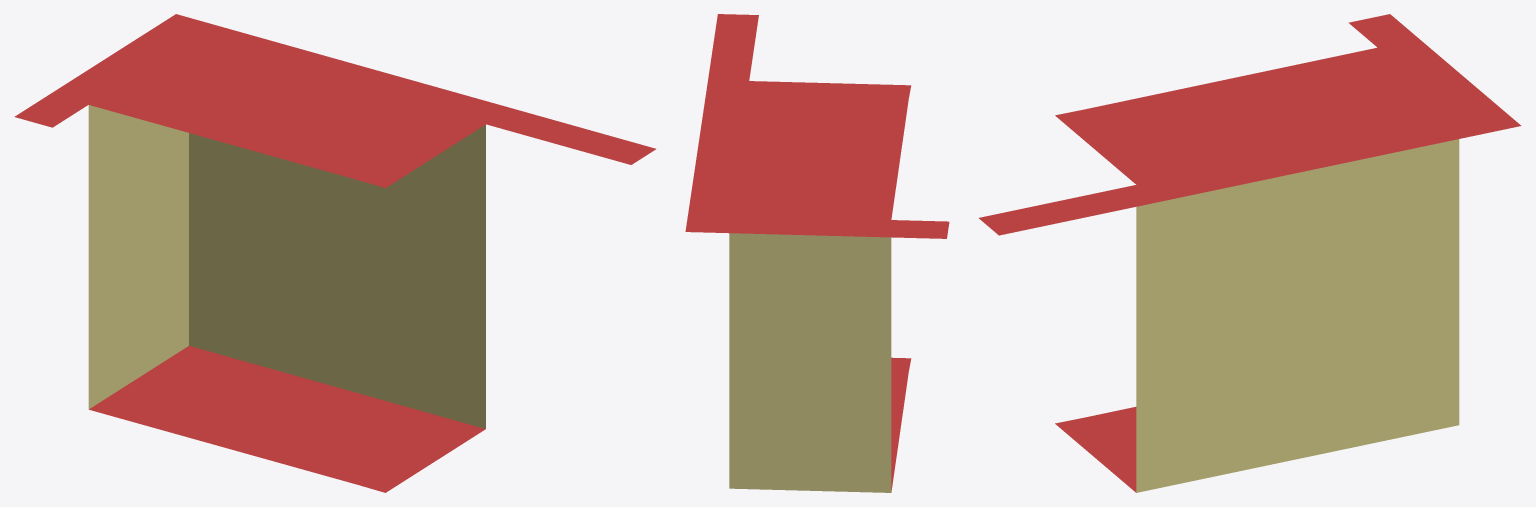
3 views of the same model, side by side, from view 1: azimuth 30°, elevation 25°; view 2: azimuth 150°, elevation 25°; view 3: azimuth 270°, elevation 25° (orthographic). The views are drawn at different scales.
Size of the model in its own units: 8.45 by 8.75 by 5.48.
